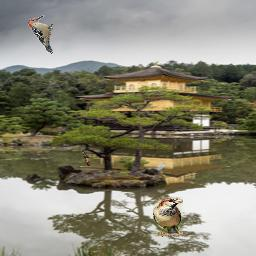Sparrow: (153, 197, 183, 237)
Swallow: (80, 148, 90, 166)
Woodpecker: (28, 15, 53, 55)
